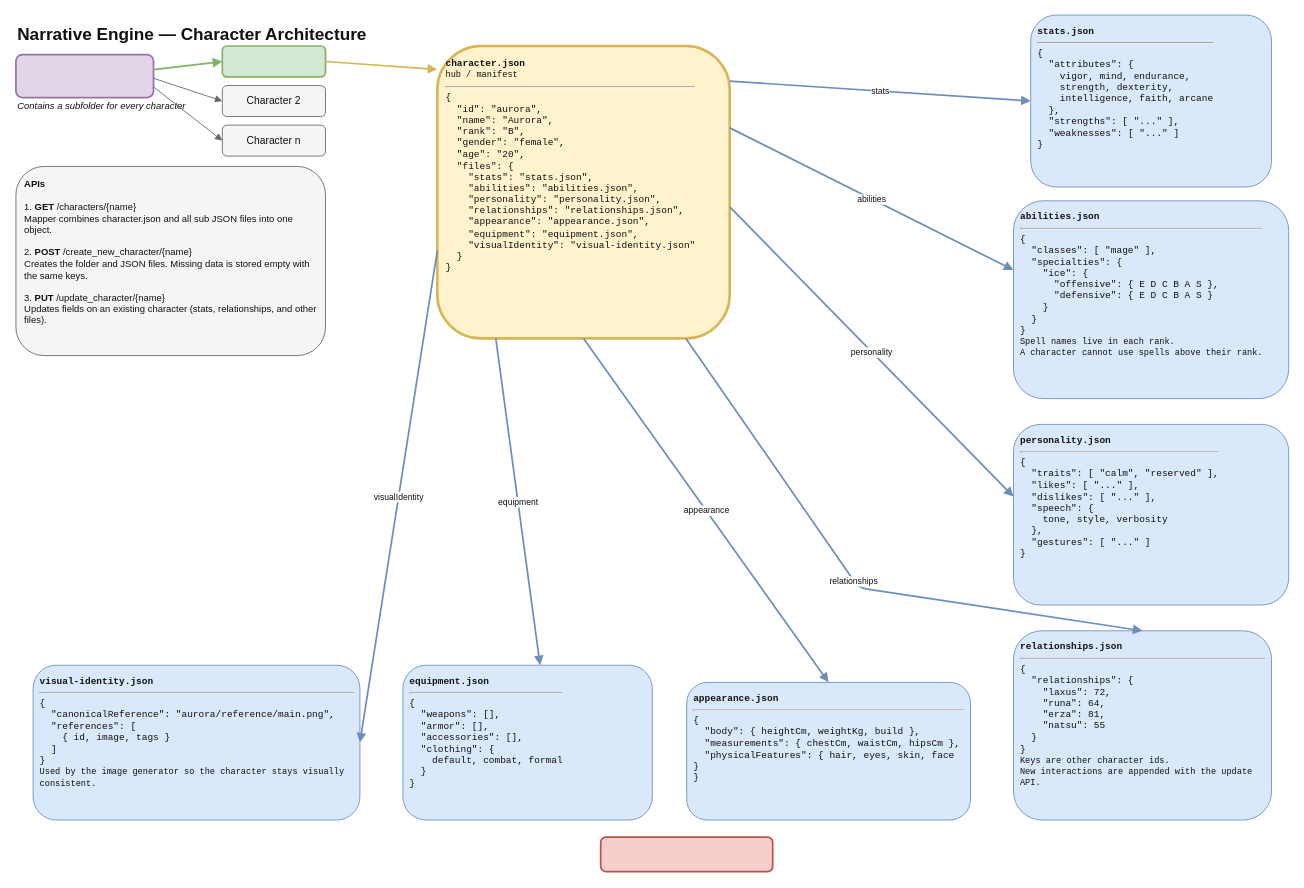
This 1304x888 diagram has some shape labels left out. The shapes that lost their labels are listed below. From the top down, each one's centre as x and y in pixels, then its label:
At pixel 84 75: "Characters/".
At pixel 273 61: "Aurora".
At pixel 686 854: "Can be updated".
